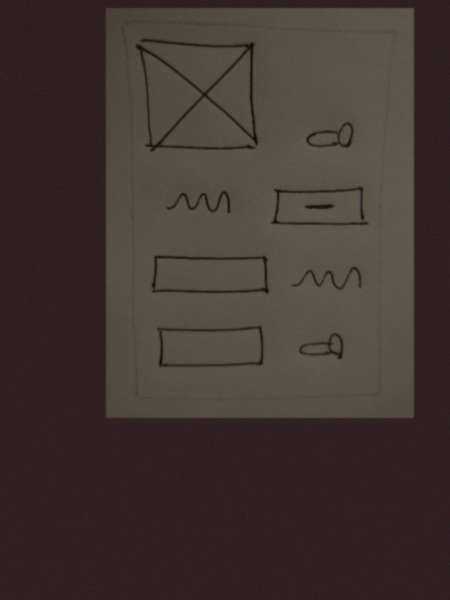button: (267, 185, 374, 232)
image: (133, 35, 265, 157)
switch: (294, 329, 349, 371), (300, 117, 359, 155)
text: (290, 261, 364, 302), (162, 185, 234, 220)
text_input: (148, 250, 272, 300), (151, 324, 271, 372)
